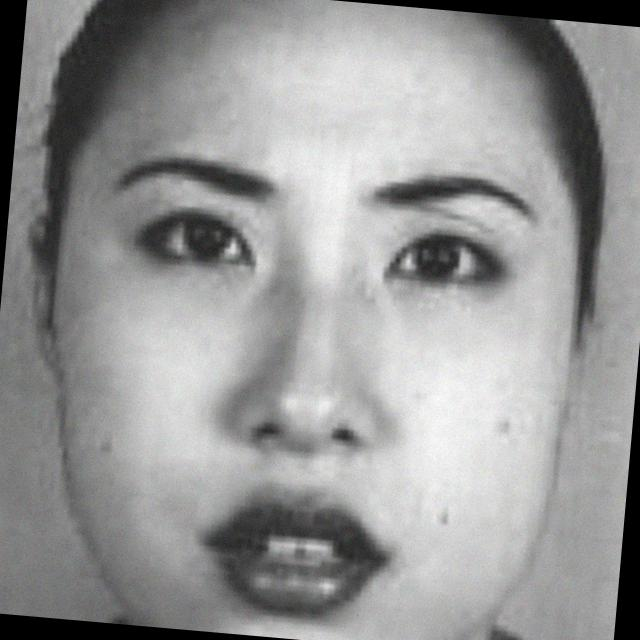fear: (50, 26, 581, 640)
